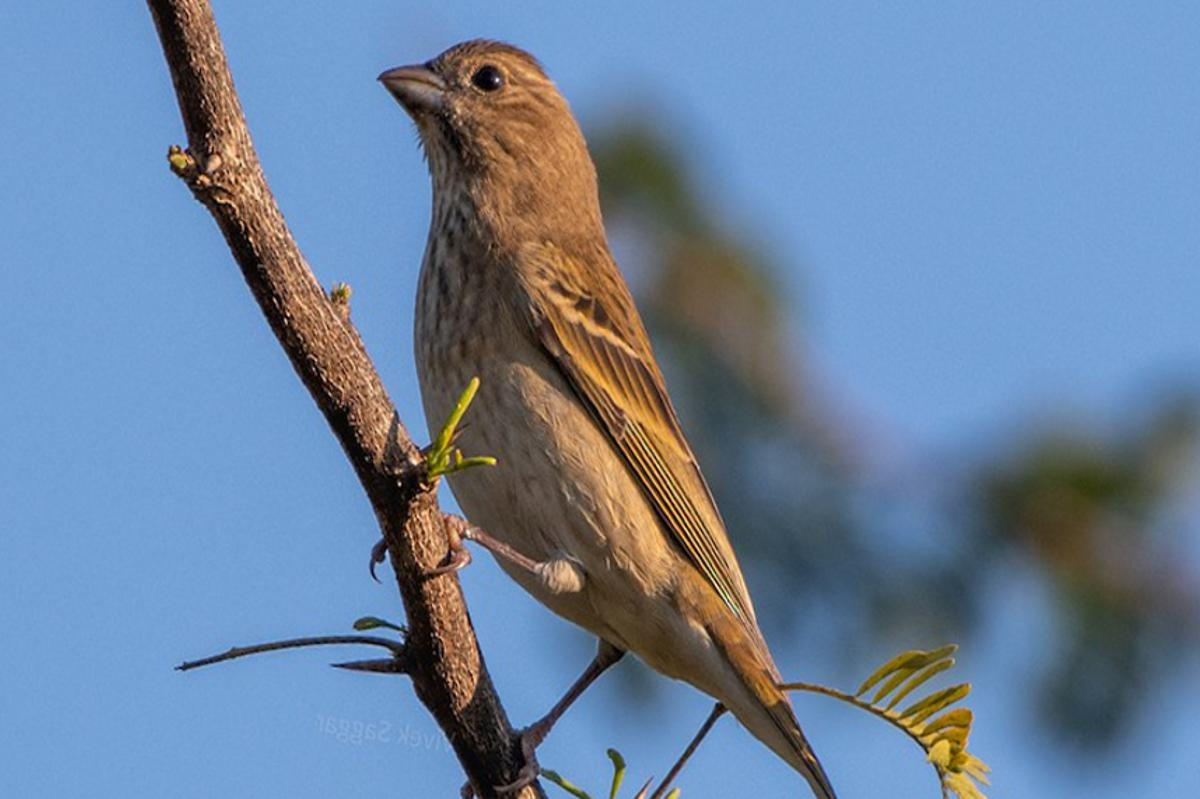rosefinch: (389, 36, 774, 715)
